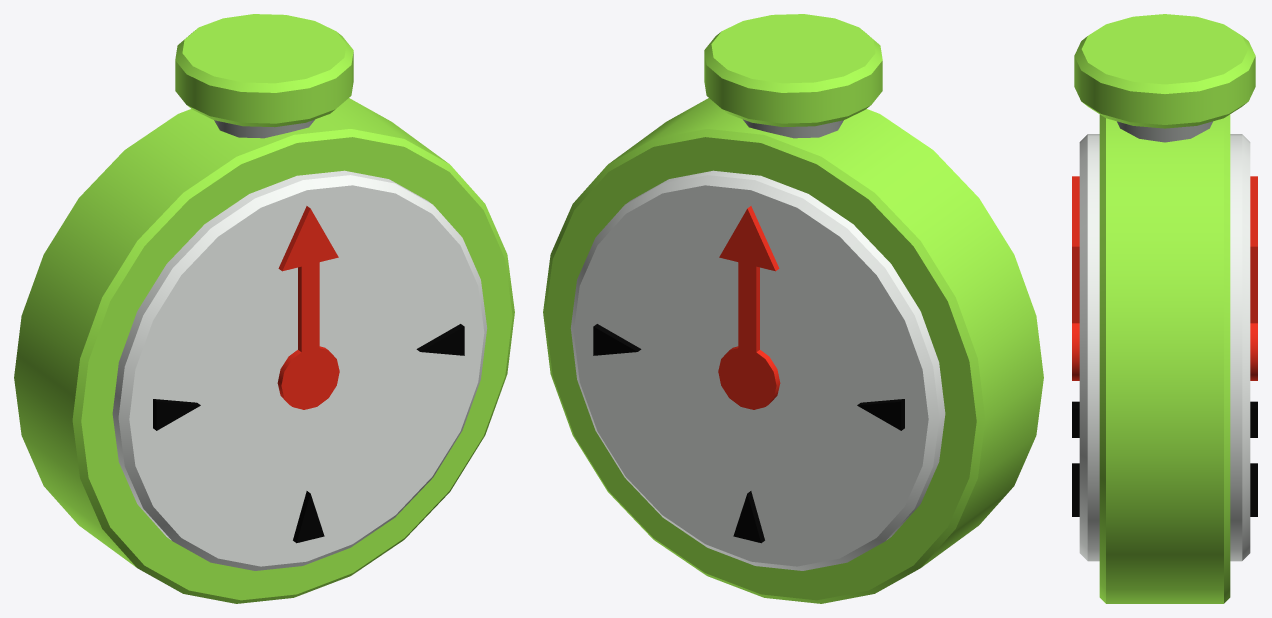
Rendered from TimeAttackClock.DAE.
3 renders of one model, left to right at view 1: azimuth 30°, elevation 25°; view 2: azimuth 150°, elevation 25°; view 3: azimuth 270°, elevation 25°, orthographic.
Parts seen in each view (by area): view 1: ShapeFBXASC0321, ShapeFBXASC0320; view 2: ShapeFBXASC0321, ShapeFBXASC0320; view 3: ShapeFBXASC0320, ShapeFBXASC0321.
Boxes of the visible parts, <box> form: ShapeFBXASC0321: <box>112,170,487,570</box>; ShapeFBXASC0320: <box>14,14,514,603</box>; ShapeFBXASC0321: <box>570,170,945,570</box>; ShapeFBXASC0320: <box>543,14,1043,603</box>; ShapeFBXASC0320: <box>1074,14,1255,603</box>; ShapeFBXASC0321: <box>1072,134,1257,561</box>.
Bounding box in the file's own units: 214 × 244 × 77.45.
Materials: 2 (2 with a texture image).
